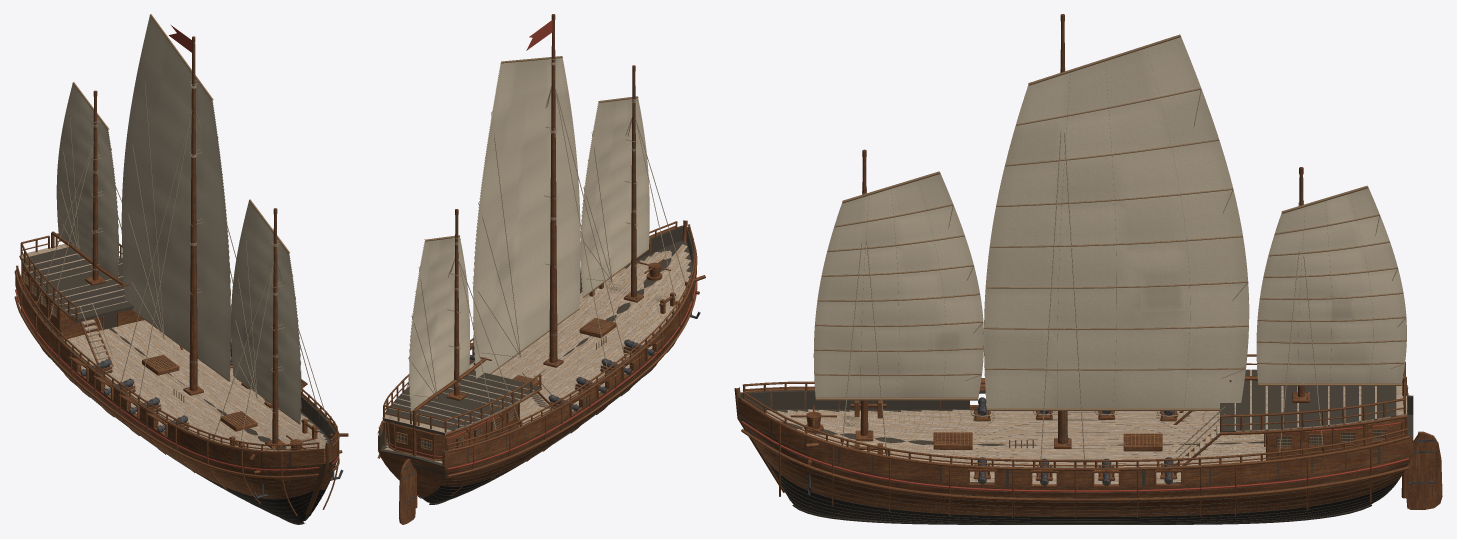
Rendered from fuchuan-lod0.glb.
The picture shows the model from 3 angles, left to right: view 1: azimuth 30°, elevation 25°; view 2: azimuth 150°, elevation 25°; view 3: azimuth 270°, elevation 25°; orthographic projection. The views are drawn at different scales.
Visible parts, largest first — view 1: sail_1, hull, deck, sail_0, sail_2, shadow_deck, deck_fittings, bulwark_rails, mast_timber_1, shadow_hull, sterncastle, mast_timber_0 (+8 smaller); view 2: sail_1, deck, hull, sail_0, sail_2, shadow_deck, deck_fittings, shadow_hull, bulwark_rails, mast_timber_1, mast_timber_0, stern_transom (+9 smaller); view 3: sail_1, hull, sail_0, sail_2, deck, shadow_hull, shadow_deck, bulwark_rails, deck_fittings, rudder_blade, sterncastle, rigging_1.
Boxes of the visible parts, x1,y1,x2,y2 form: sail_1: (121, 14, 231, 381); hull: (14, 270, 339, 524); deck: (19, 244, 330, 450); sail_0: (231, 199, 301, 424); sail_2: (56, 82, 119, 278); shadow_deck: (22, 247, 133, 322); deck_fittings: (21, 262, 348, 498); bulwark_rails: (16, 233, 338, 452); mast_timber_1: (189, 43, 197, 390); shadow_hull: (15, 270, 337, 521); sterncastle: (23, 266, 144, 339); mast_timber_0: (272, 214, 278, 443); sail_1: (472, 56, 580, 378); deck: (382, 244, 690, 463); hull: (377, 220, 697, 504); sail_0: (580, 96, 649, 297); sail_2: (408, 235, 469, 411); shadow_deck: (383, 370, 540, 435); deck_fittings: (383, 259, 705, 461); shadow_hull: (378, 225, 695, 502); bulwark_rails: (378, 221, 695, 451); mast_timber_1: (549, 20, 557, 362); mast_timber_0: (631, 71, 636, 297); stern_transom: (388, 423, 444, 458); sail_1: (984, 34, 1249, 410); hull: (734, 387, 1413, 524); sail_0: (813, 171, 983, 400); sail_2: (1256, 185, 1406, 386); deck: (766, 369, 1407, 484); shadow_hull: (738, 390, 1413, 523); shadow_deck: (1220, 369, 1396, 432); bulwark_rails: (742, 354, 1408, 467); deck_fittings: (790, 385, 1407, 494); rudder_blade: (1406, 431, 1442, 509); sterncastle: (1266, 418, 1404, 460); rigging_1: (1039, 132, 1086, 473).
Size of the model in its own units: 10.4 by 26.65 by 33.55.
Materials: 11 (6 with a texture image).
